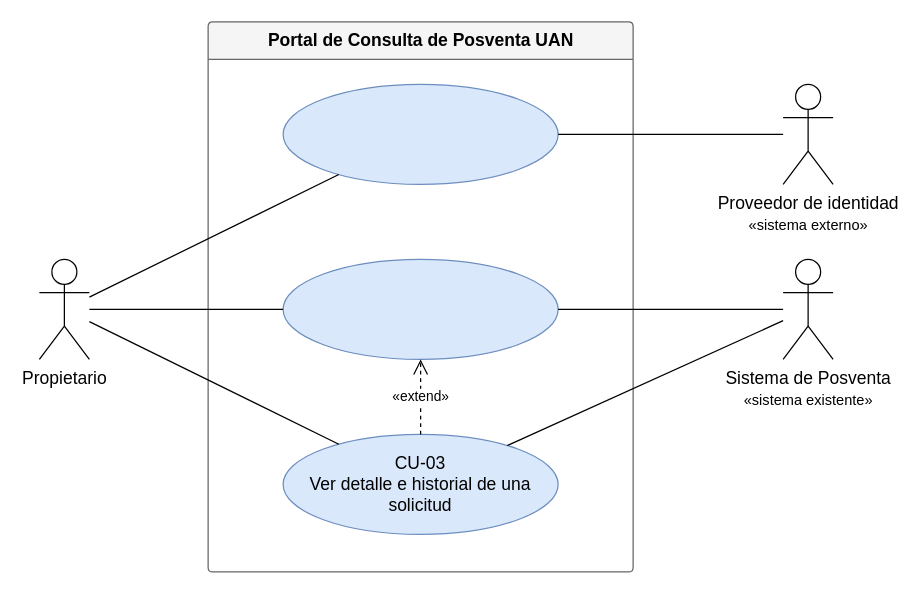
The diagram is 920 pixels wide and 594 high, and some of its shapes have lost their labels. The shapes that lost their labels are listed below. From the top down, each one's centre as x and y in pixels, then its label:
At [420,133]: "CU-01 Iniciar sesión con código al correo".
At [420,308]: "CU-02 Consultar mis solicitudes".
